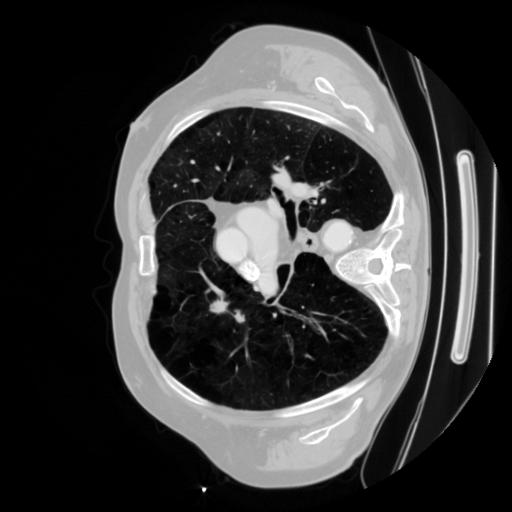nodule: (215, 300, 239, 324)
